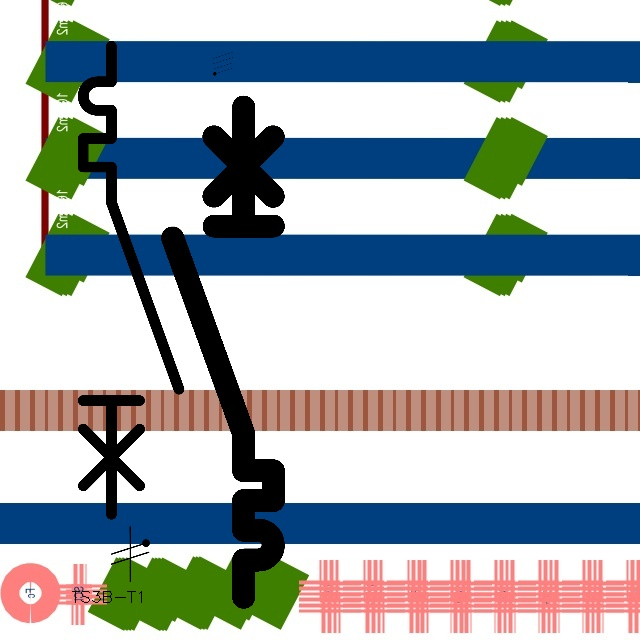interruptor_termomagnetico: (160, 94, 286, 609), (71, 34, 191, 526)
